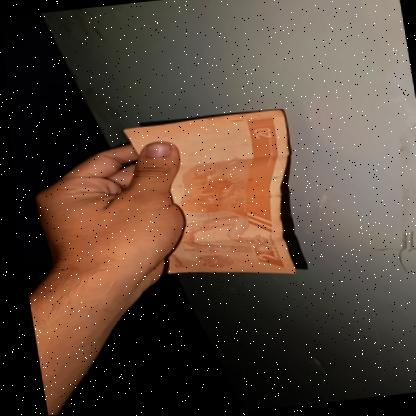twenty-back-vef: (120, 109, 307, 291)
